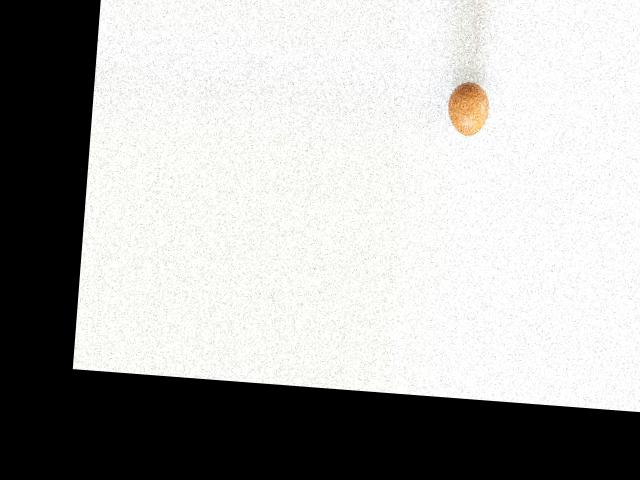egg: (445, 79, 490, 137)
